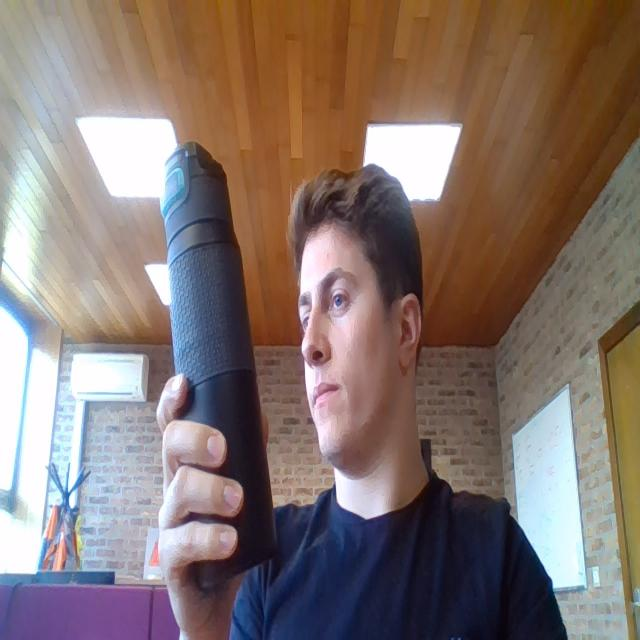bottle: (154, 143, 281, 597)
